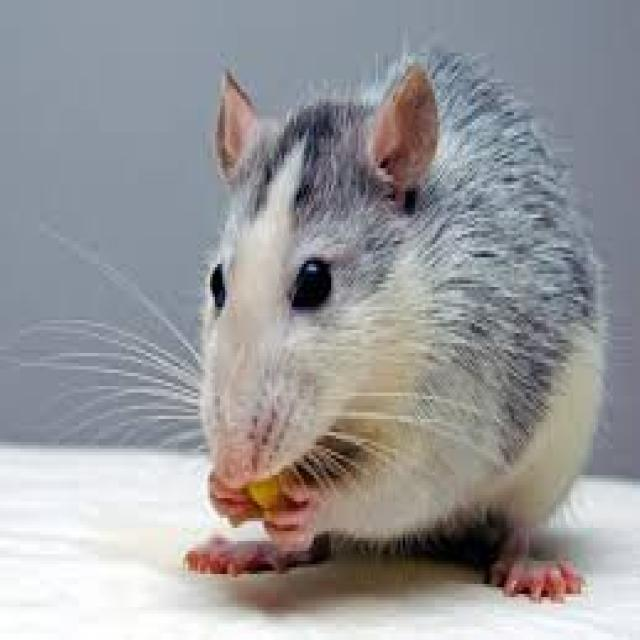Mouse: (187, 50, 613, 601)
